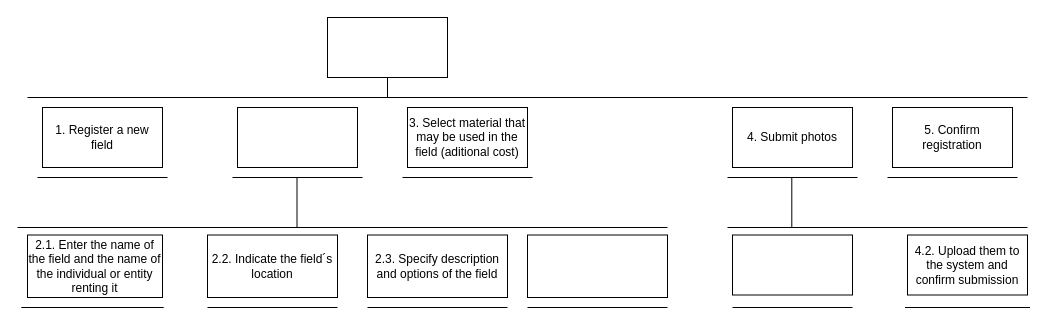
The diagram is 1049 pixels wide and 326 high, and some of its shapes have lost their labels. Each missing label, with the centre of its shape:
"2. Select details" belongs at (x=297, y=137).
"2.2. Define the pricing structure and rental time slots" belongs at (x=597, y=266).
"4.1. Capture or choose the appropriate photos" belongs at (x=792, y=264).
"Register a new Field to rent" belongs at (x=387, y=47).
